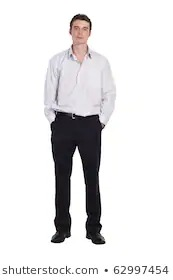F_dress pants: (47, 109, 104, 237)
